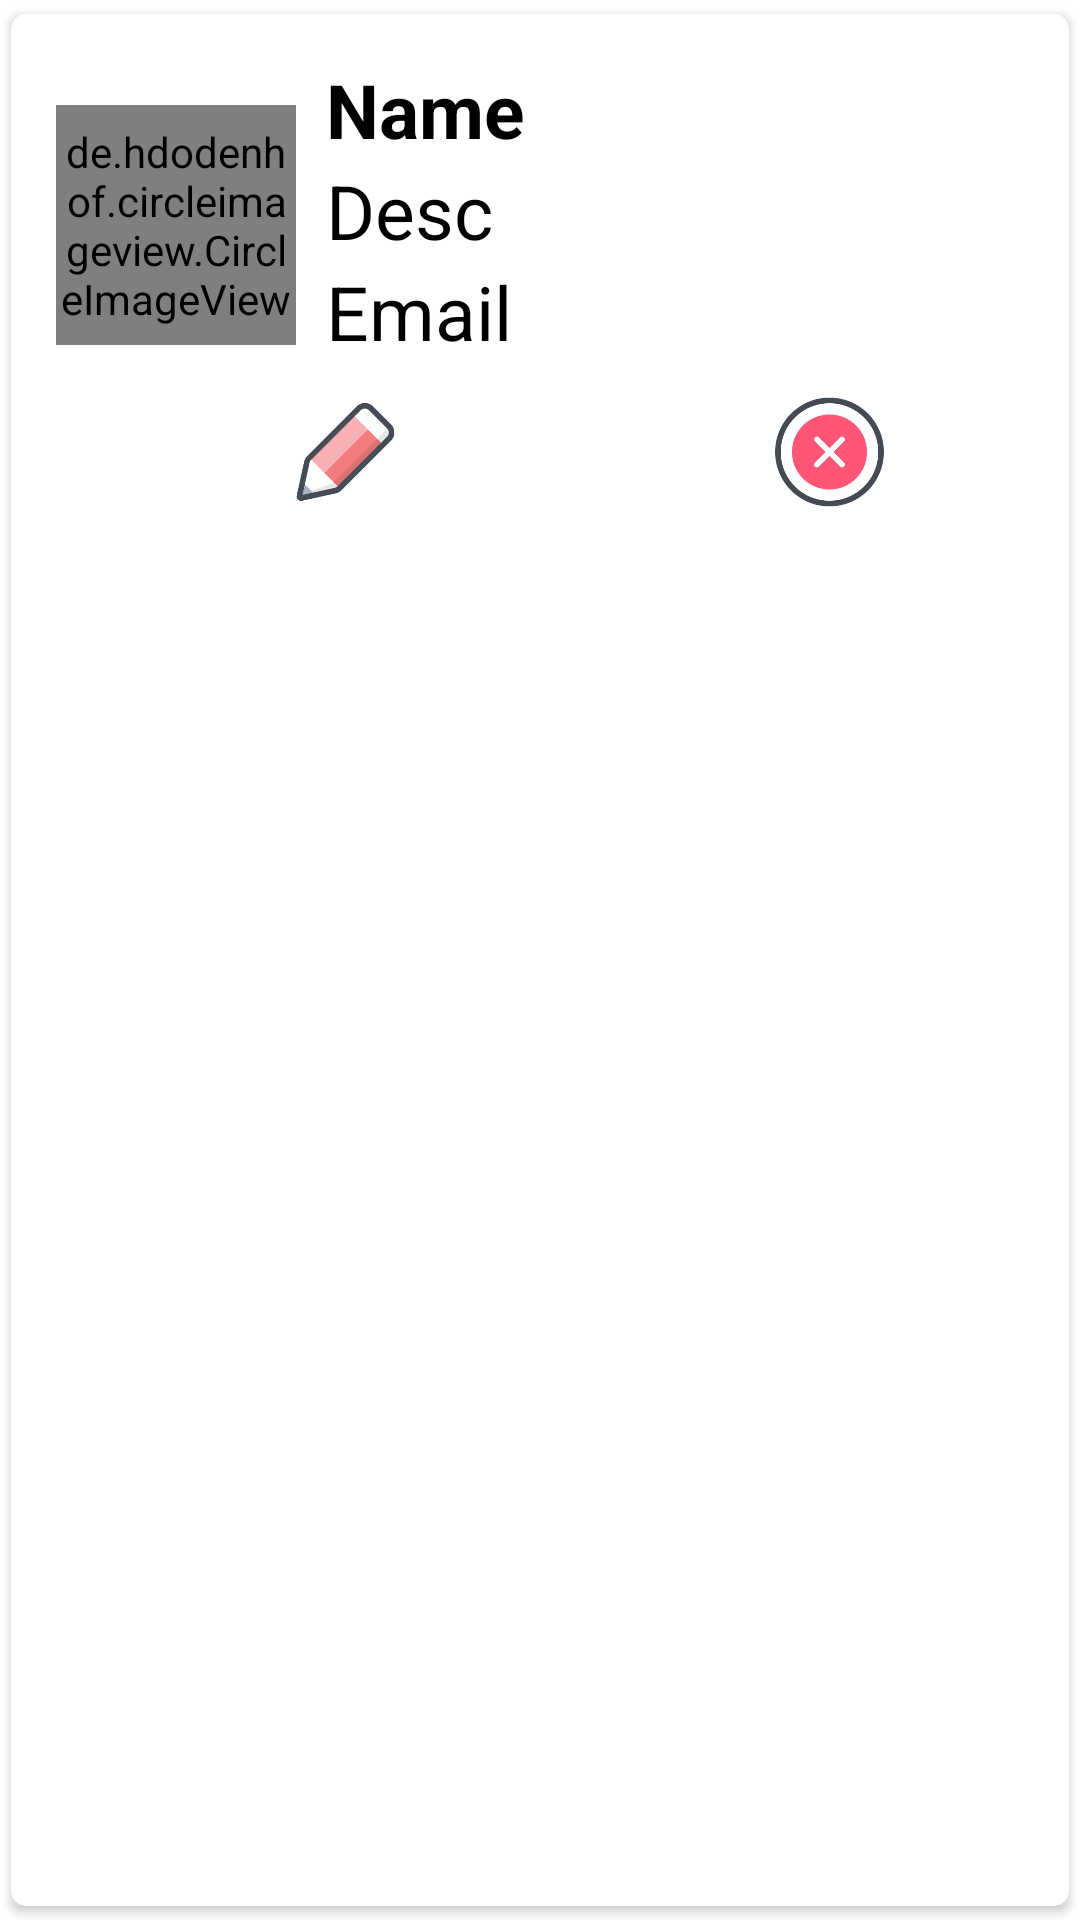

Named icons in this screenshot (1080 × 1920) and their centers, (x,y):
delete: (829,452)
edit: (345,452)
